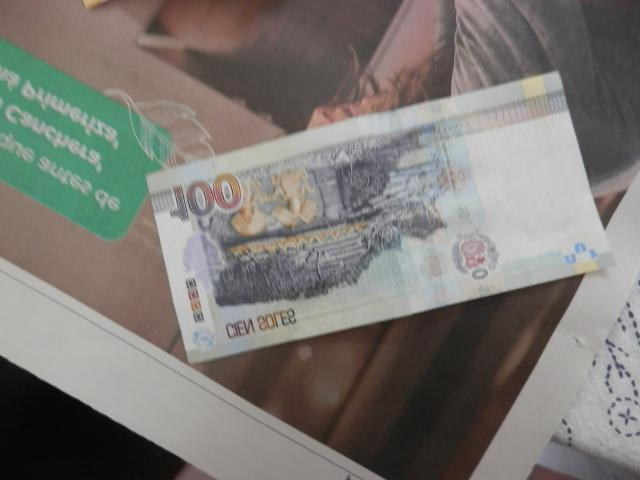B100: (145, 75, 612, 365)
